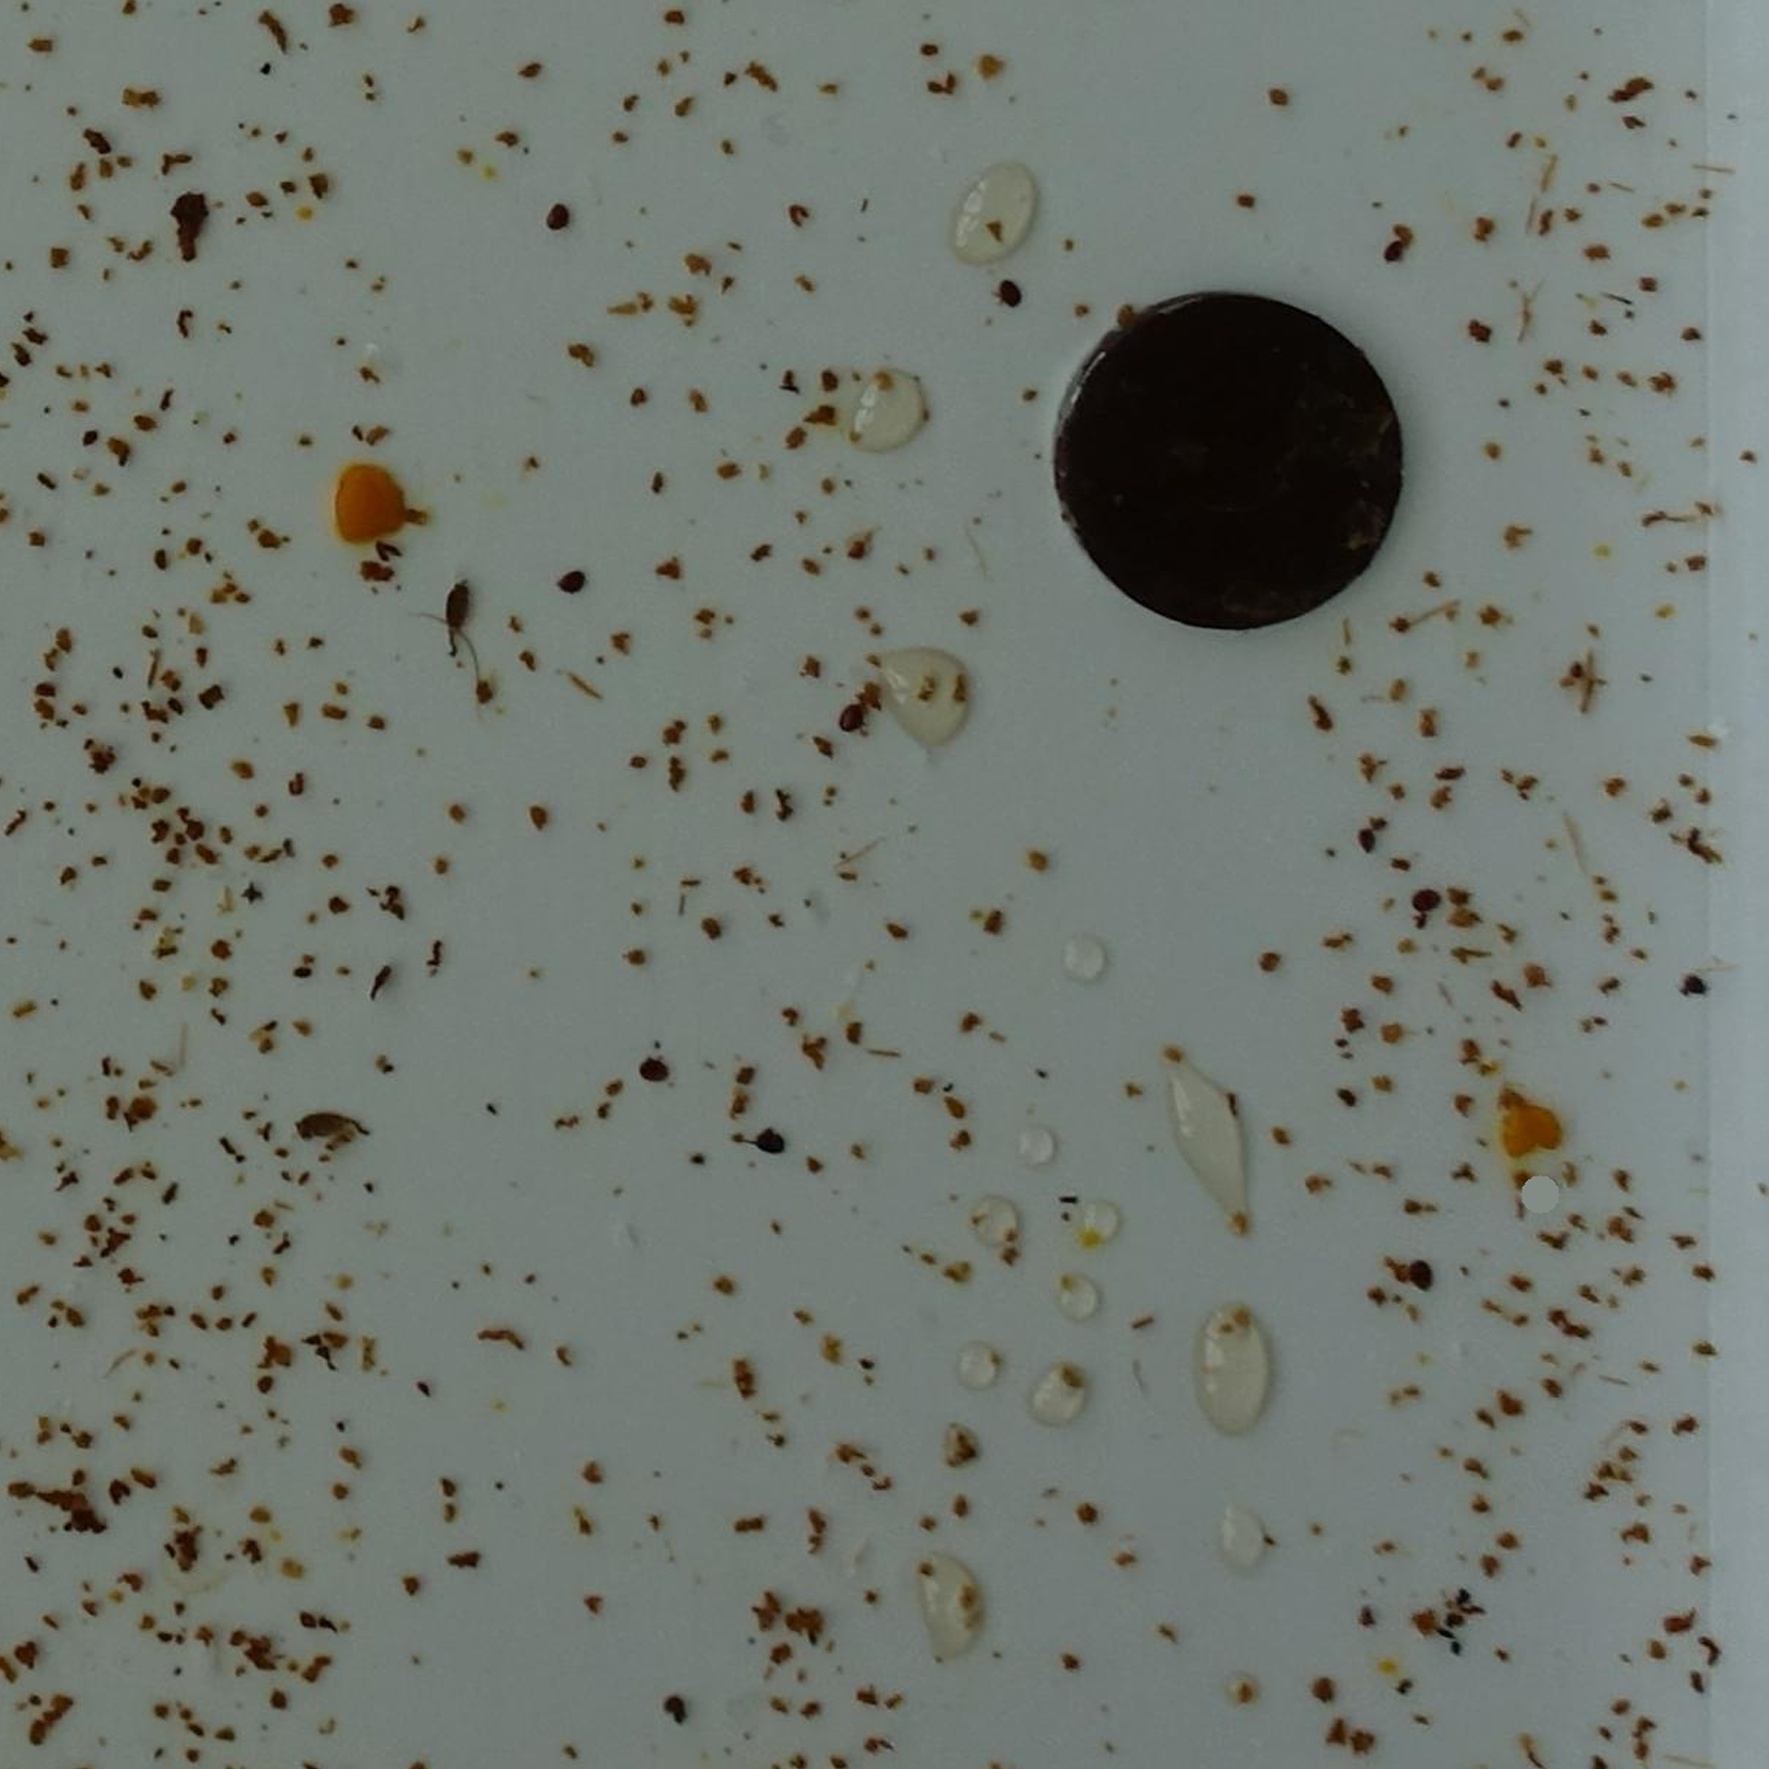Varroa: (557, 564, 586, 595), (637, 1059, 666, 1089), (753, 1124, 782, 1153), (996, 275, 1022, 305), (838, 706, 863, 734), (1406, 1260, 1432, 1286), (544, 202, 569, 227), (1413, 888, 1435, 912)
